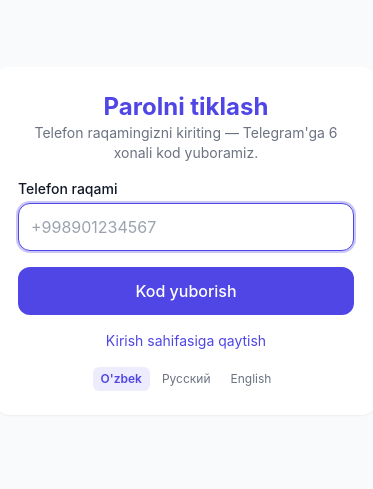
Test case: ResetPasswordPage › muvaffaqiyatli tiklangach xabar va kirish havolasi chiqadi
Type "901112233" into the field labelled "Telefon raqami" at (186, 227), box [18,203,354,251]
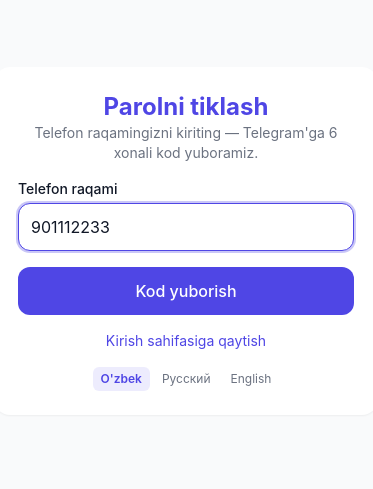
Click the button "Kod yuborish" at (186, 291), box [18,267,354,315]
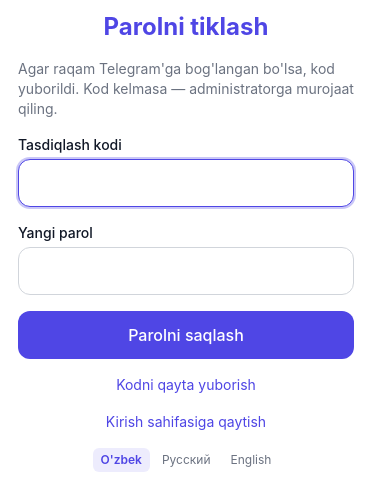
Expected: the field labelled "Tasdiqlash kodi" is shown
Type "123456" into the field labelled "Tasdiqlash kodi" at (186, 182), box [18,158,354,206]
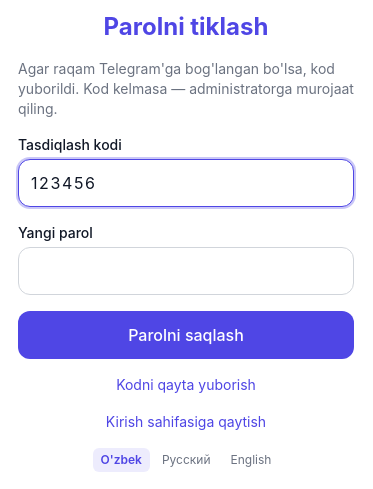
Type "yangiParol1" into the password field labelled "Yangi parol" at (186, 270), box [18,246,354,294]
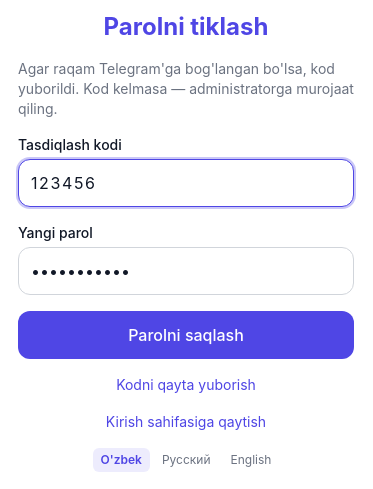
Click the button "Parolni saqlash" at (186, 334), box [18,310,354,358]
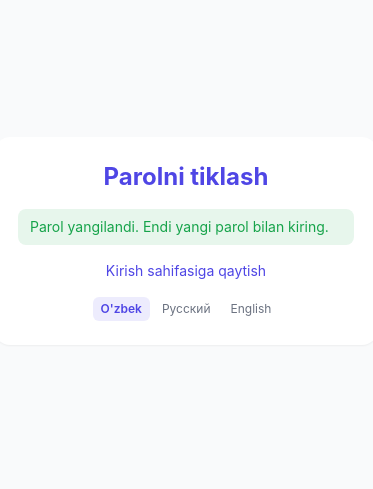
Expected: the text "Parol yangilandi. Endi yangi parol bilan kiring." is shown, [18,209,354,245]
